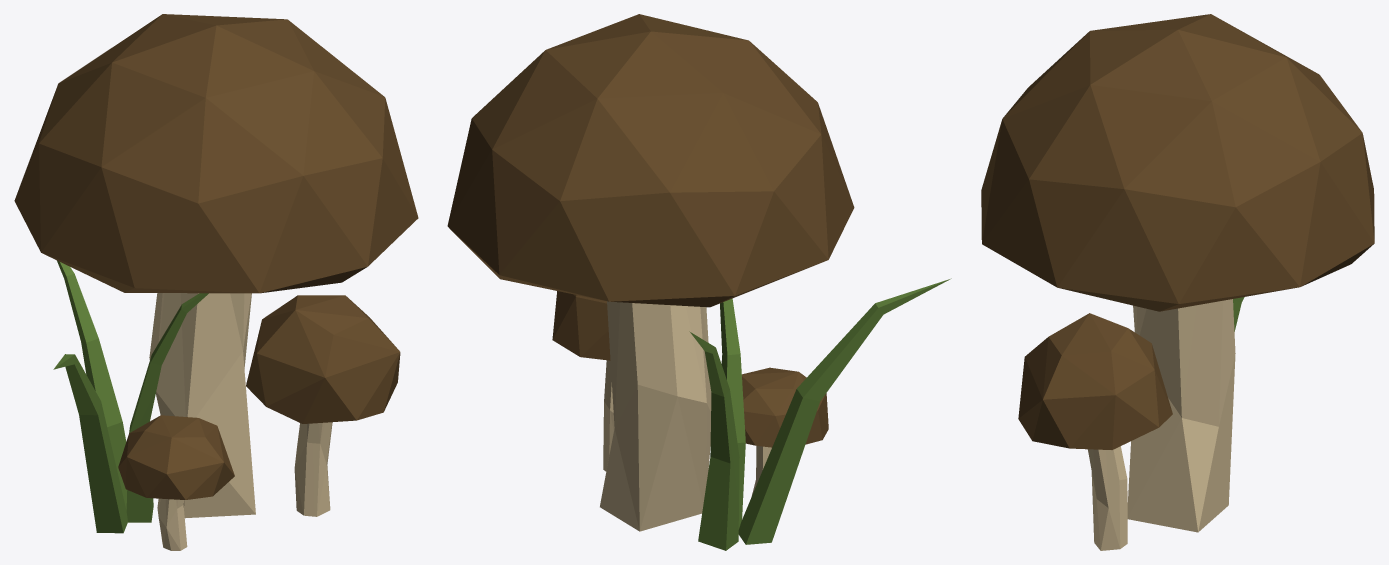
Rendered from Mushroom_08.fbx.
3 views of the same model, side by side, from view 1: azimuth 30°, elevation 25°; view 2: azimuth 150°, elevation 25°; view 3: azimuth 270°, elevation 25° (orthographic).
Parts seen in each view (by area): view 1: Mushroom_08; view 2: Mushroom_08; view 3: Mushroom_08.
Boxes of the visible parts, x1,y1,x2,y2 form: Mushroom_08: (14,14,418,550); Mushroom_08: (447,14,951,550); Mushroom_08: (981,14,1374,550).
Size of the model in its own units: 21.96 by 24.64 by 18.07.
